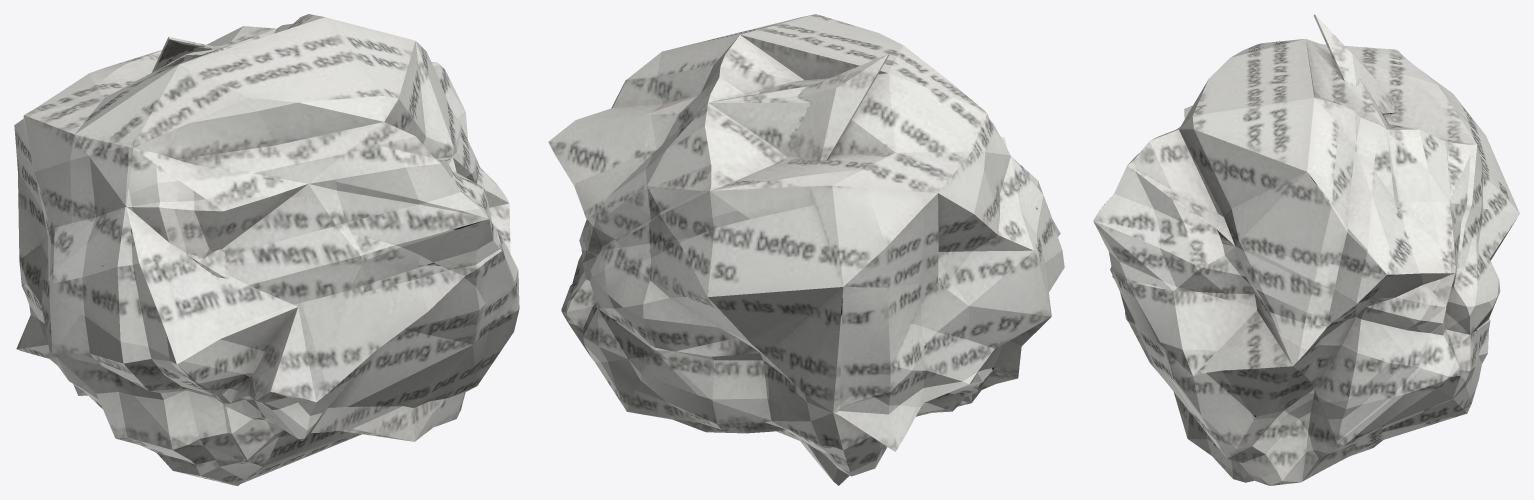
The model's file is SM_PL_Paper_BallMedium_crushed.fbx.
3 views of the same model, side by side, from view 1: azimuth 30°, elevation 25°; view 2: azimuth 150°, elevation 25°; view 3: azimuth 270°, elevation 25° (orthographic). The views are drawn at different scales.
Parts seen in each view (by area): view 1: SM_PL_Paper_BallMedium_crushed; view 2: SM_PL_Paper_BallMedium_crushed; view 3: SM_PL_Paper_BallMedium_crushed.
Part boxes in pixels (box(x1,y1,x2,y2)): SM_PL_Paper_BallMedium_crushed: box(14, 14, 519, 485); SM_PL_Paper_BallMedium_crushed: box(548, 14, 1064, 485); SM_PL_Paper_BallMedium_crushed: box(1093, 14, 1519, 485).
Size of the model in its own units: 0.0714 by 0.0663 by 0.0631.
Materials: 1 (1 with a texture image).
